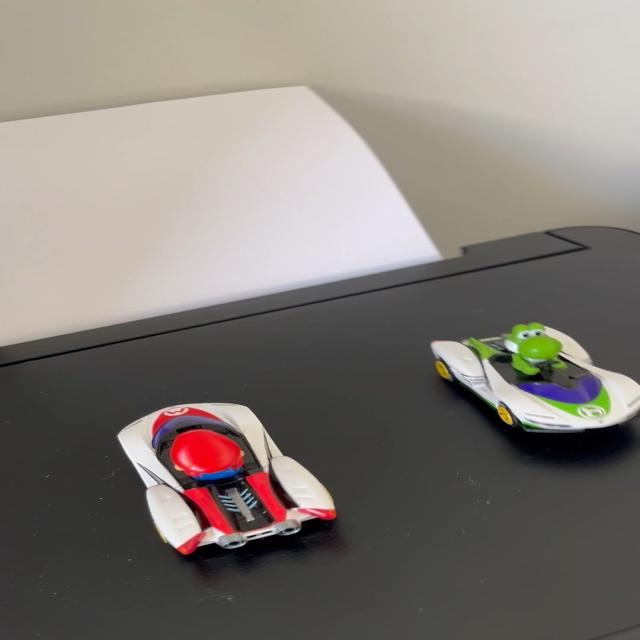mario: (112, 398, 359, 562)
yoshi: (418, 309, 640, 443)
